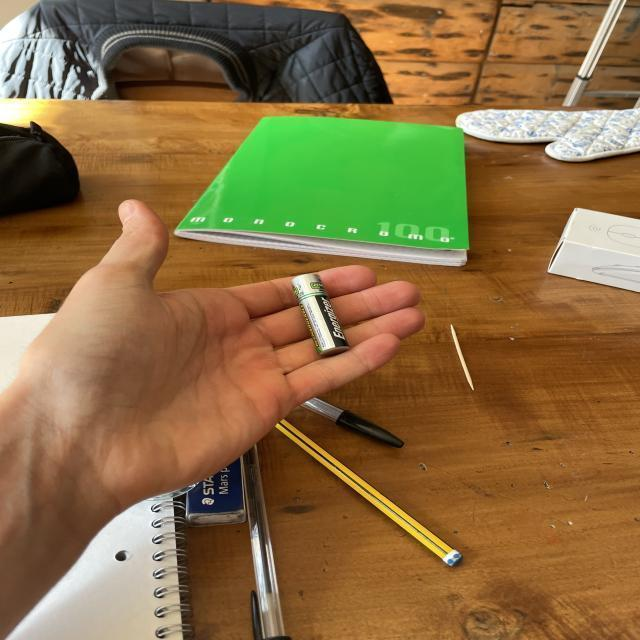Hazard: (290, 270, 358, 358)
